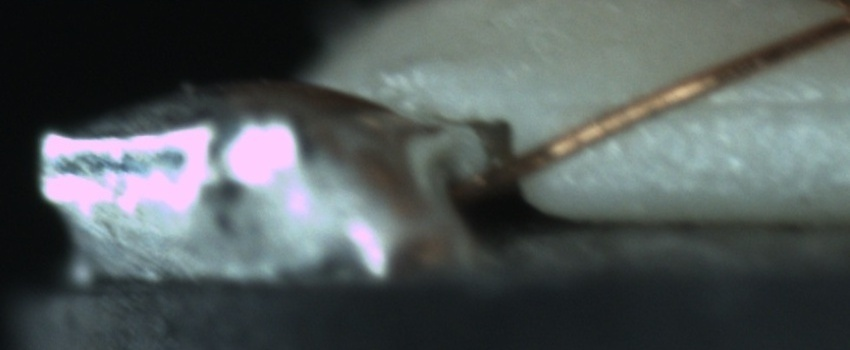DL: (611, 71, 848, 137)
